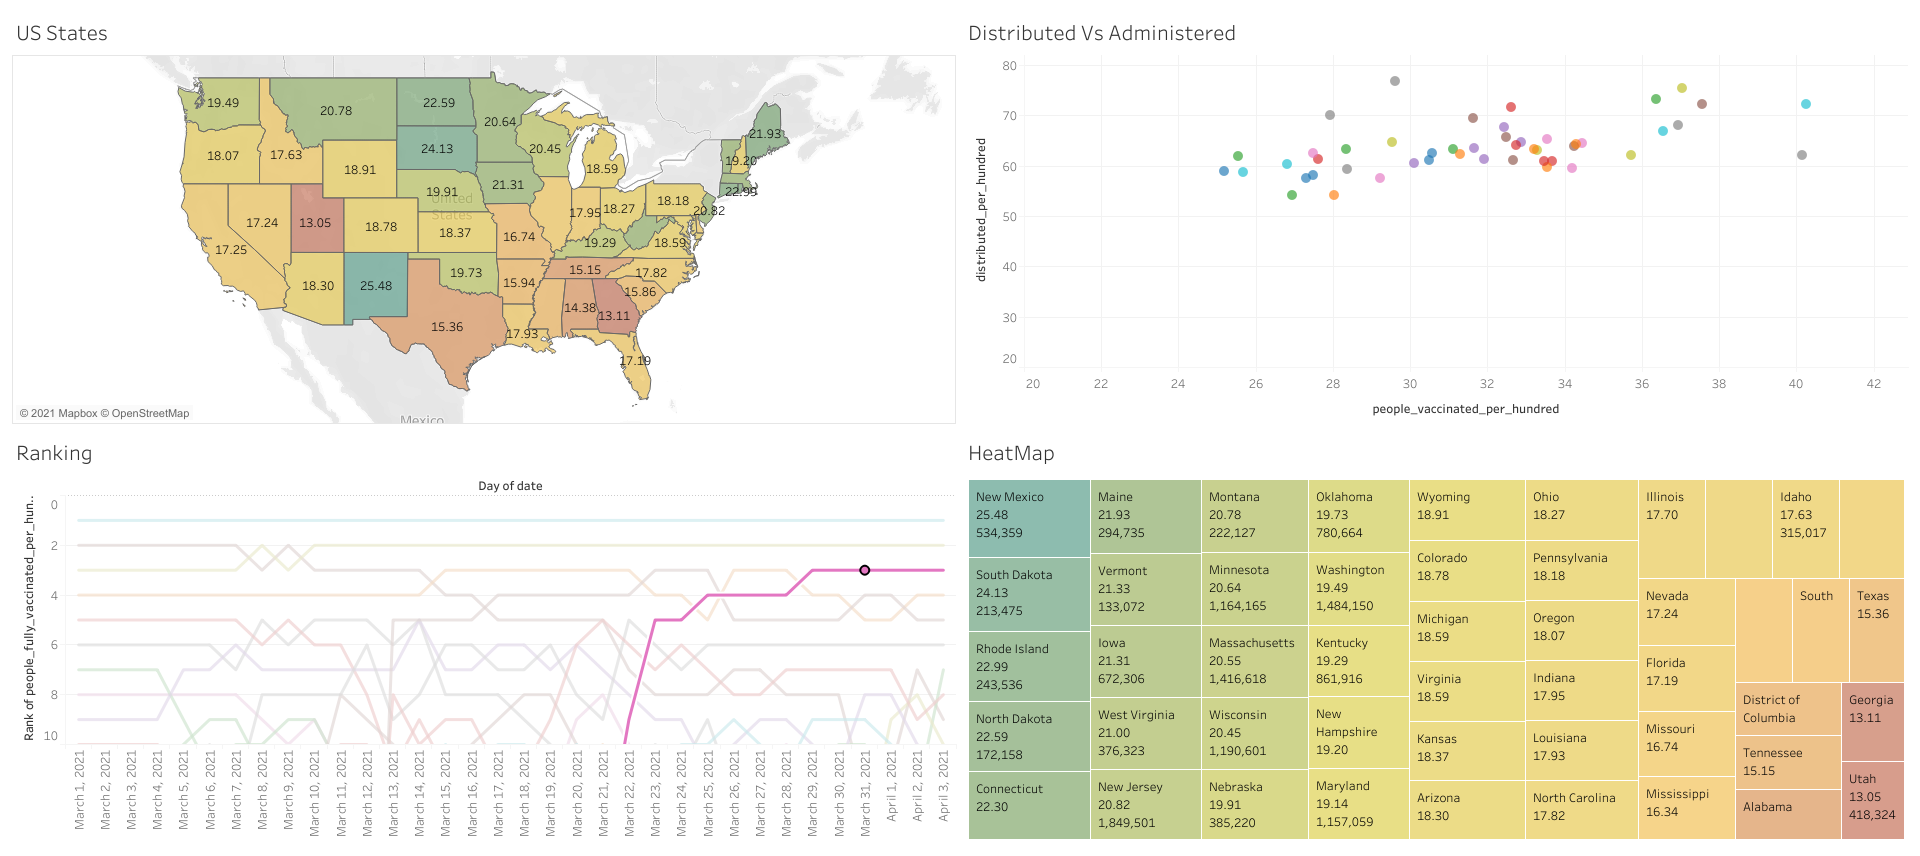

The page's visual inventory and layout, read from the dashboard file:
{"tool":"tableau","page":{"name":"Dashboard 1","canvas":[1000,1000],"units":"permille","ordinal":0},"visuals":[{"type":"worksheet","box":[0,0,1000,1000]},{"type":"worksheet","param":"horz","box":[6.3,14.1,987.4,971.7]},{"type":"worksheet","param":"horz","box":[6.3,14.1,987.4,971.7]},{"type":"worksheet","param":"horz","box":[6.3,14.1,987.4,971.7]},{"type":"worksheet","box":[6.3,14.1,987.4,971.7]},{"type":"worksheet","title":"US States","mark":"Multipolygon","box":[6.3,14.1,493.7,485.9]},{"type":"worksheet","title":"ScatterPlot","mark":"Circle","rows":["distributed_per_hundred"],"cols":["people_vaccinated_per_hundred"],"box":[500,14.1,493.7,485.9]},{"type":"worksheet","title":"Ranking","mark":"Automatic","cols":["date"],"box":[6.3,500,493.7,485.9]},{"type":"worksheet","title":"HeatMap","mark":"Automatic","box":[500,500,493.7,485.9]}]}

Visuals, with their boxes on the dashboard's canvas, which has no fixed pixel size, in thousandths of its width and height (x1, y1, x2, y2). These are canvas units, not pixel positions in the 1920x856 screenshot, which may show the page scaled, cropped or inside an application window:
worksheet: (0, 0, 1000, 1000)
worksheet: (6, 14, 994, 986)
worksheet: (6, 14, 994, 986)
worksheet: (6, 14, 994, 986)
worksheet: (6, 14, 994, 986)
"US States" worksheet (Multipolygon marks): (6, 14, 500, 500)
"ScatterPlot" worksheet (Circle marks): (500, 14, 994, 500)
"Ranking" worksheet: (6, 500, 500, 986)
"HeatMap" worksheet: (500, 500, 994, 986)
